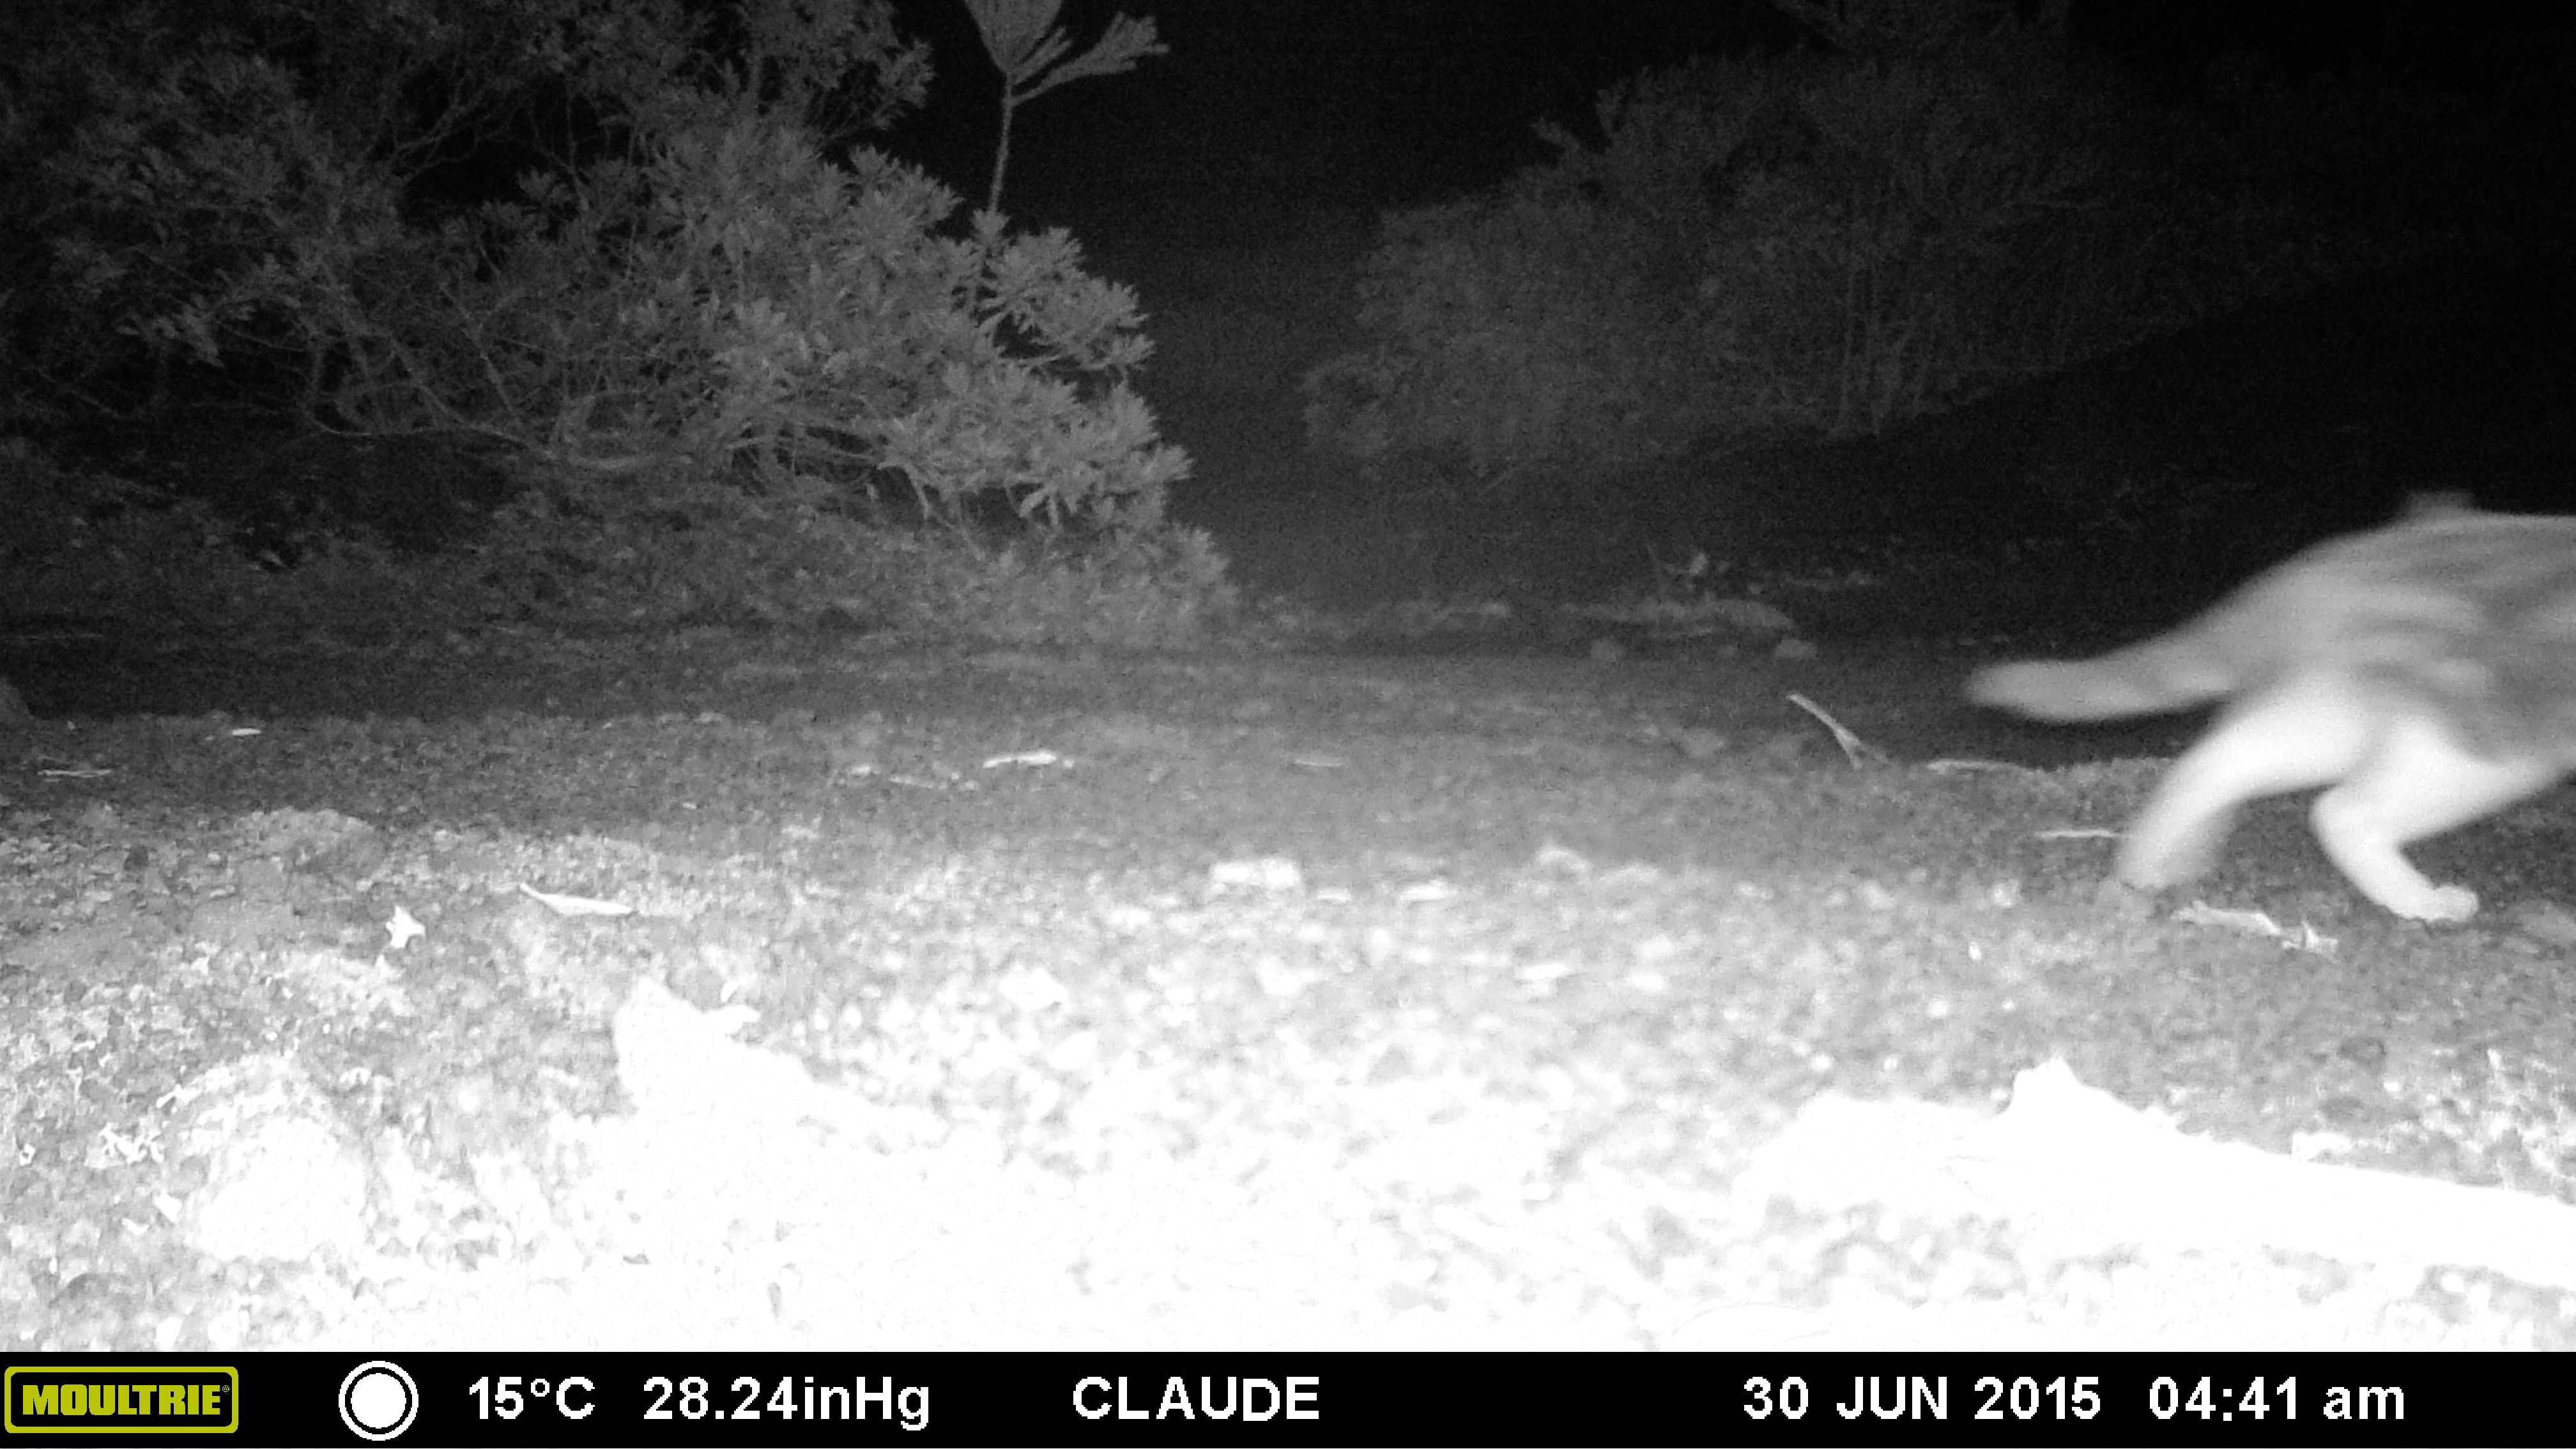cat: (1937, 471, 2572, 936)
